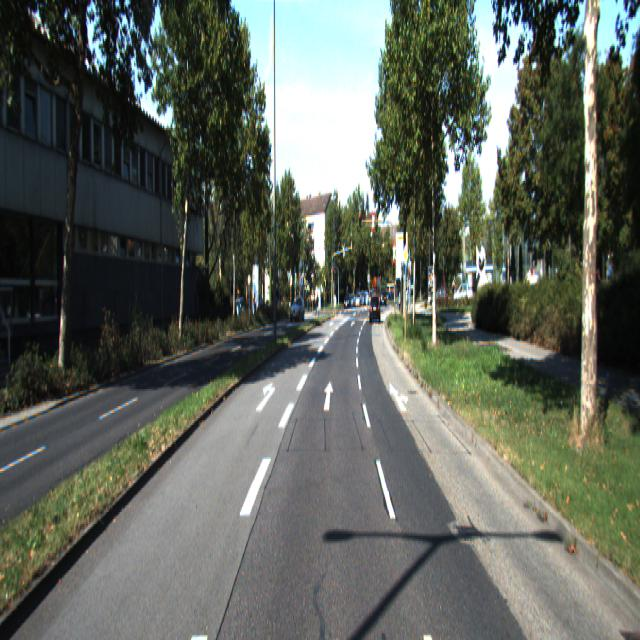Car: (290, 293, 305, 321), (370, 295, 381, 326)
